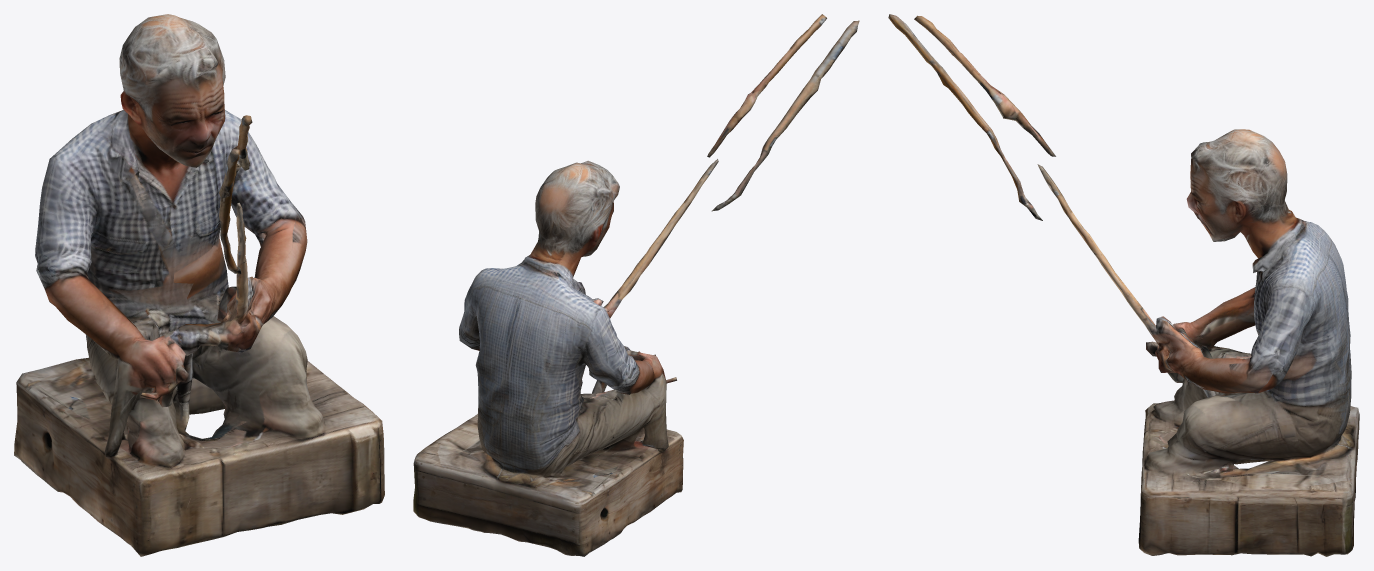
File: Meshy_AI_Un_pescatore_di_mezza_0308162808_texture.fbx
3 renders of one model, left to right at view 1: azimuth 30°, elevation 25°; view 2: azimuth 150°, elevation 25°; view 3: azimuth 270°, elevation 25°, orthographic. The views are drawn at different scales.
Parts seen in each view (by area): view 1: Mesh_0; view 2: Mesh_0; view 3: Mesh_0.
Part boxes in pixels (left/top/right/bottom): Mesh_0: left=14, top=14, right=384, bottom=556; Mesh_0: left=413, top=14, right=859, bottom=556; Mesh_0: left=888, top=14, right=1359, bottom=556.
Bounding box in the file's own units: 121 × 200 × 197.
Materials: 1 (1 with a texture image).
